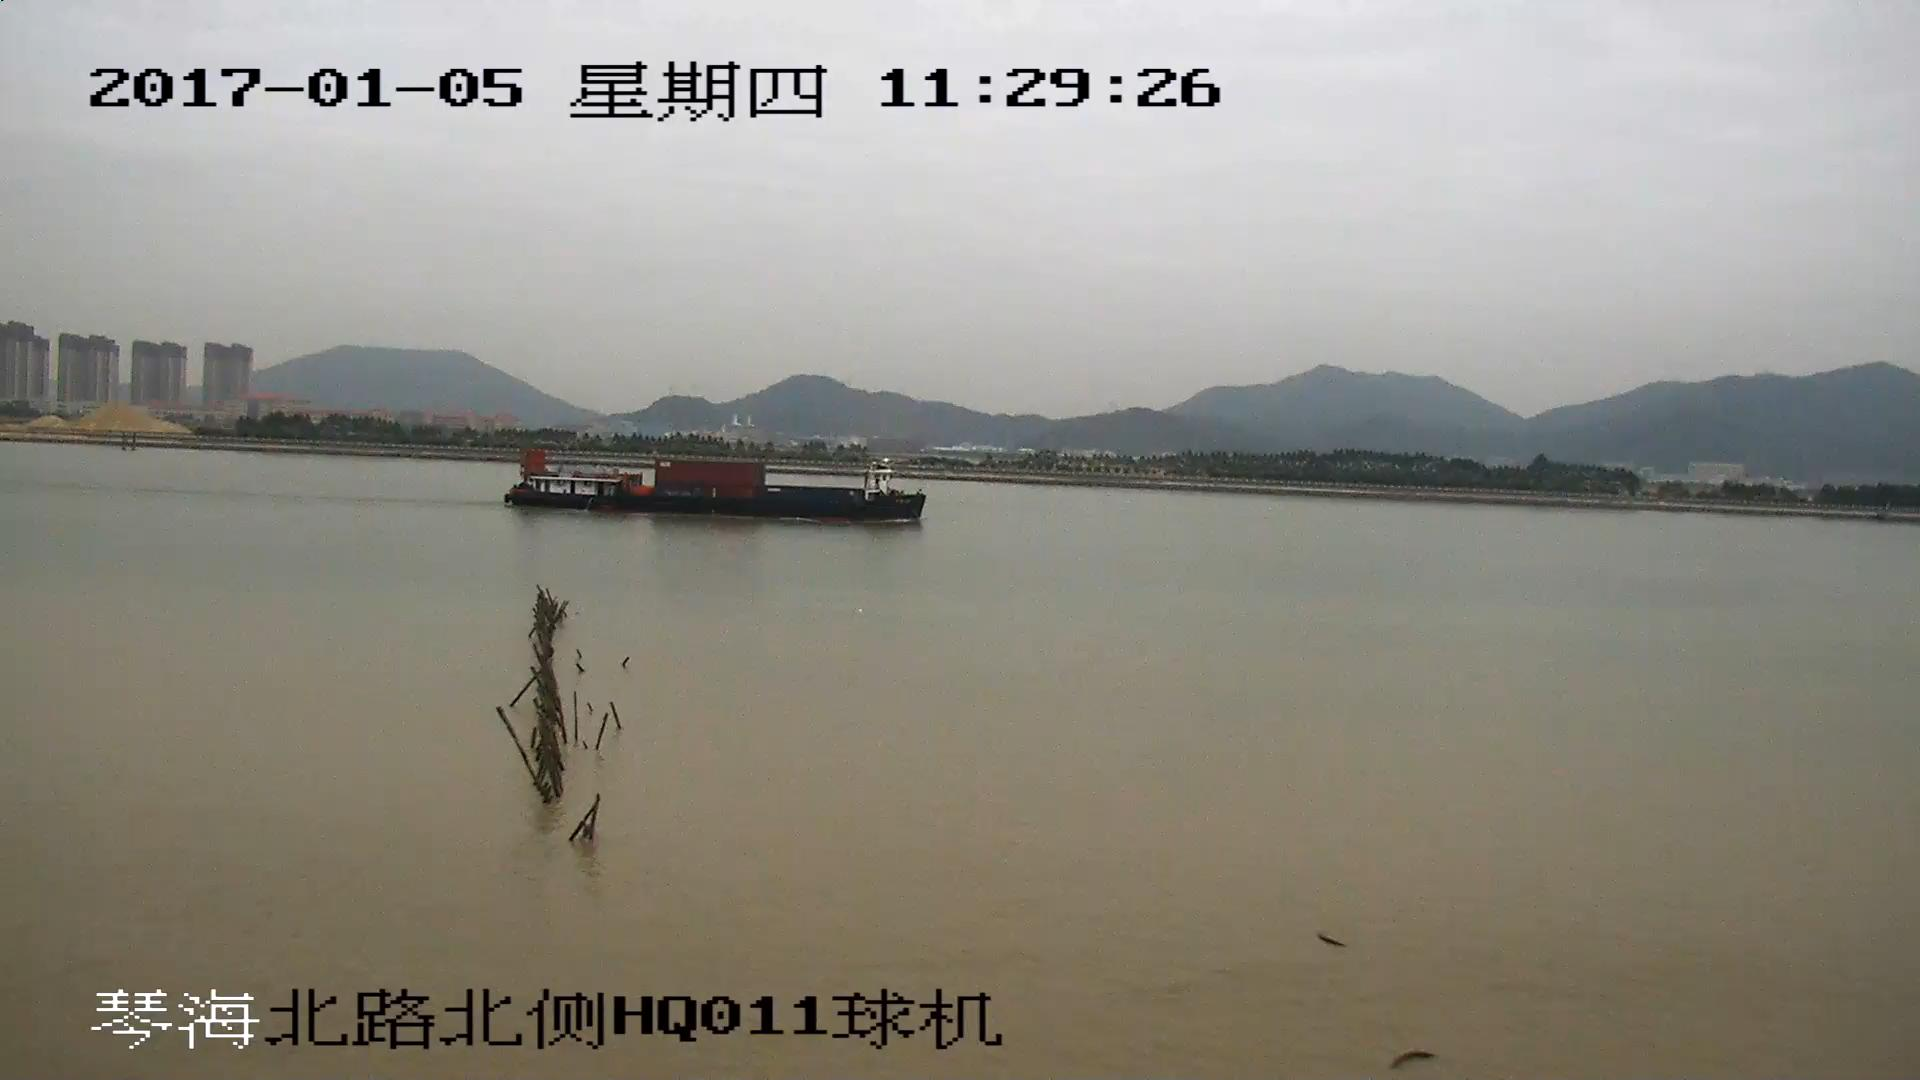container ship: (503, 450, 925, 523)
